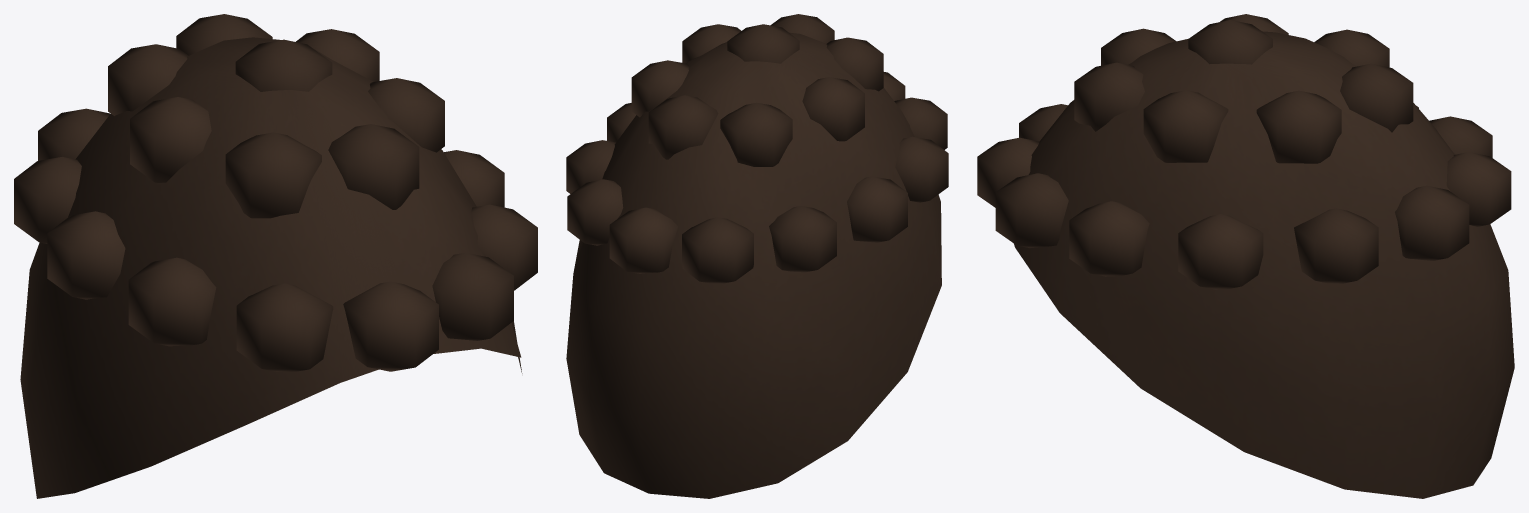
Rendered from curls.glb.
3 renders of one model, left to right at view 1: azimuth 30°, elevation 25°; view 2: azimuth 150°, elevation 25°; view 3: azimuth 270°, elevation 25°, orthographic. The views are drawn at different scales.
Visible parts, largest first — view 1: hair-curls; view 2: hair-curls; view 3: hair-curls.
Part boxes in pixels (x1=…): hair-curls: x1=14, y1=14, x2=537, y2=498; hair-curls: x1=566, y1=14, x2=948, y2=498; hair-curls: x1=977, y1=14, x2=1514, y2=498.
Bounding box in the file's own units: 0.1785 × 0.2171 × 0.2413.
Materials: 1 (1 with a texture image).
